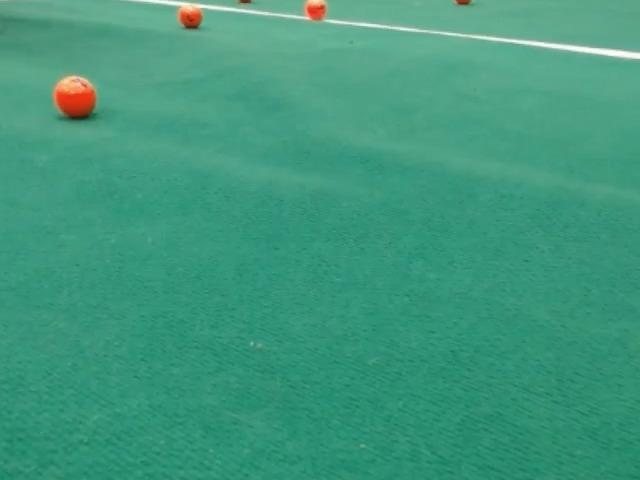Ball: (53, 76, 96, 118), (178, 4, 202, 28), (304, 0, 326, 21)
